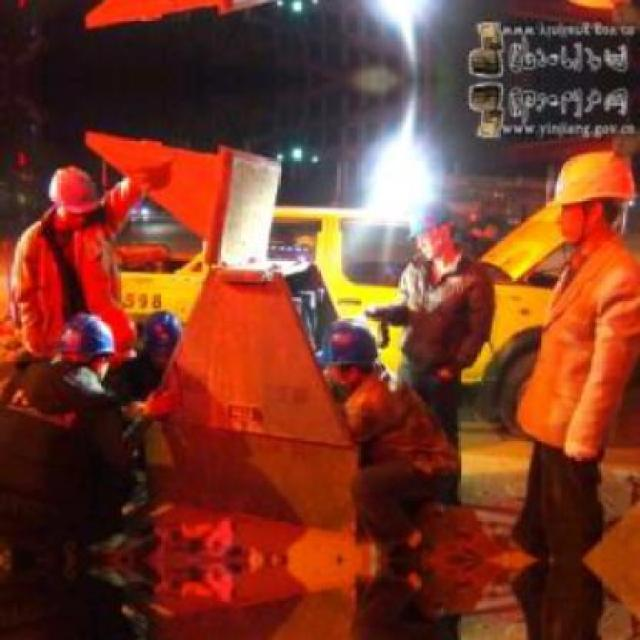helmet: (544, 142, 634, 252), (65, 313, 123, 382), (46, 165, 99, 229), (405, 198, 457, 260), (324, 320, 374, 382), (141, 308, 185, 366)
